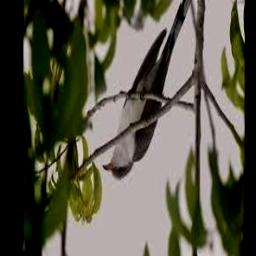Cuckoo: (102, 0, 195, 181)
